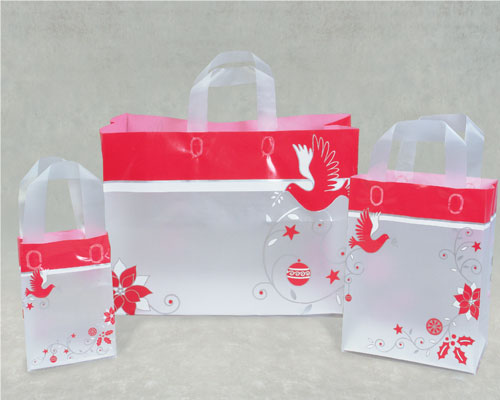Nonrec_Plastic: (110, 58, 351, 327), (351, 95, 499, 377), (12, 157, 127, 377)
